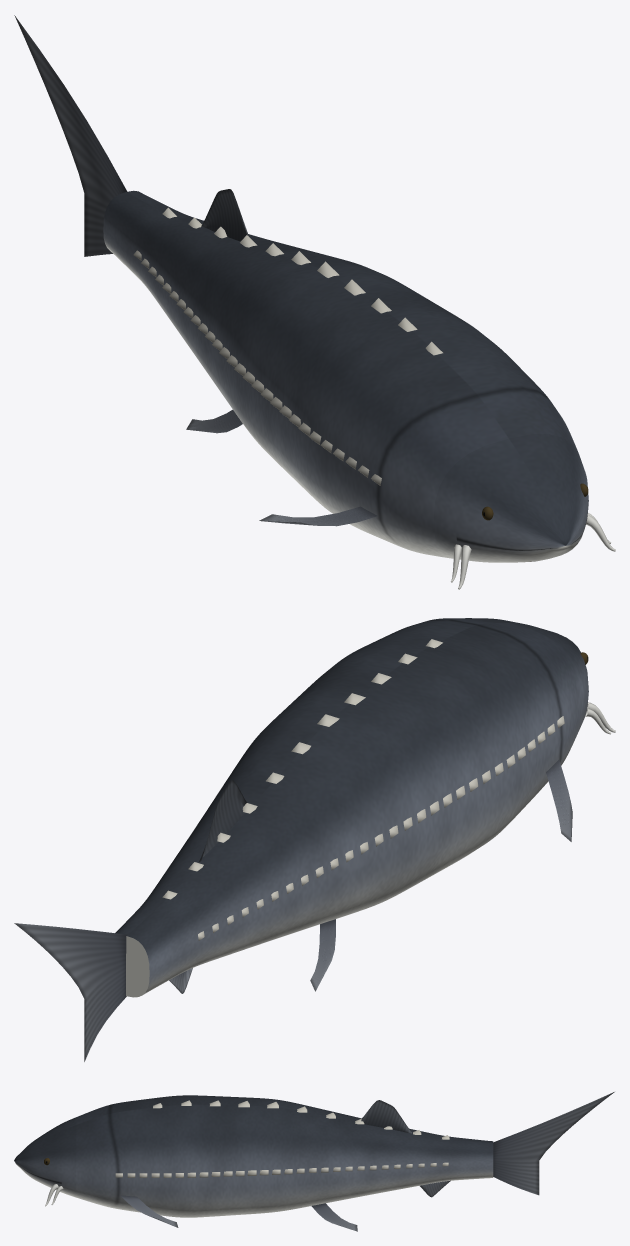
File: beluga.obj
3 views of the same model, one above another, from view 1: azimuth 30°, elevation 25°; view 2: azimuth 150°, elevation 25°; view 3: azimuth 270°, elevation 25° (orthographic). The views are drawn at different scales.
Visible parts, largest first — view 1: beluga_body, beluga_fin_p, beluga_scute, beluga_fin_d, beluga_barbel; view 2: beluga_body, beluga_fin_p, beluga_scute, beluga_fin_d; view 3: beluga_body, beluga_fin_p, beluga_scute, beluga_fin_d.
Part boxes in pixels (x1=…): beluga_body: x1=103, y1=190, x2=588, y2=562; beluga_fin_p: x1=14, y1=15, x2=377, y2=526; beluga_scute: x1=133, y1=207, x2=442, y2=485; beluga_fin_d: x1=201, y1=189, x2=248, y2=241; beluga_barbel: x1=451, y1=513, x2=615, y2=589; beluga_body: x1=115, y1=618, x2=588, y2=997; beluga_fin_p: x1=14, y1=759, x2=572, y2=1061; beluga_scute: x1=162, y1=639, x2=564, y2=940; beluga_fin_d: x1=199, y1=780, x2=246, y2=861; beluga_body: x1=14, y1=1095, x2=493, y2=1217; beluga_fin_p: x1=120, y1=1092, x2=614, y2=1231; beluga_scute: x1=115, y1=1100, x2=449, y2=1177; beluga_fin_d: x1=361, y1=1100, x2=411, y2=1133.
Size of the model in its own units: 0.9045 by 0.6251 by 2.76.
Materials: 7 (3 with a texture image).
